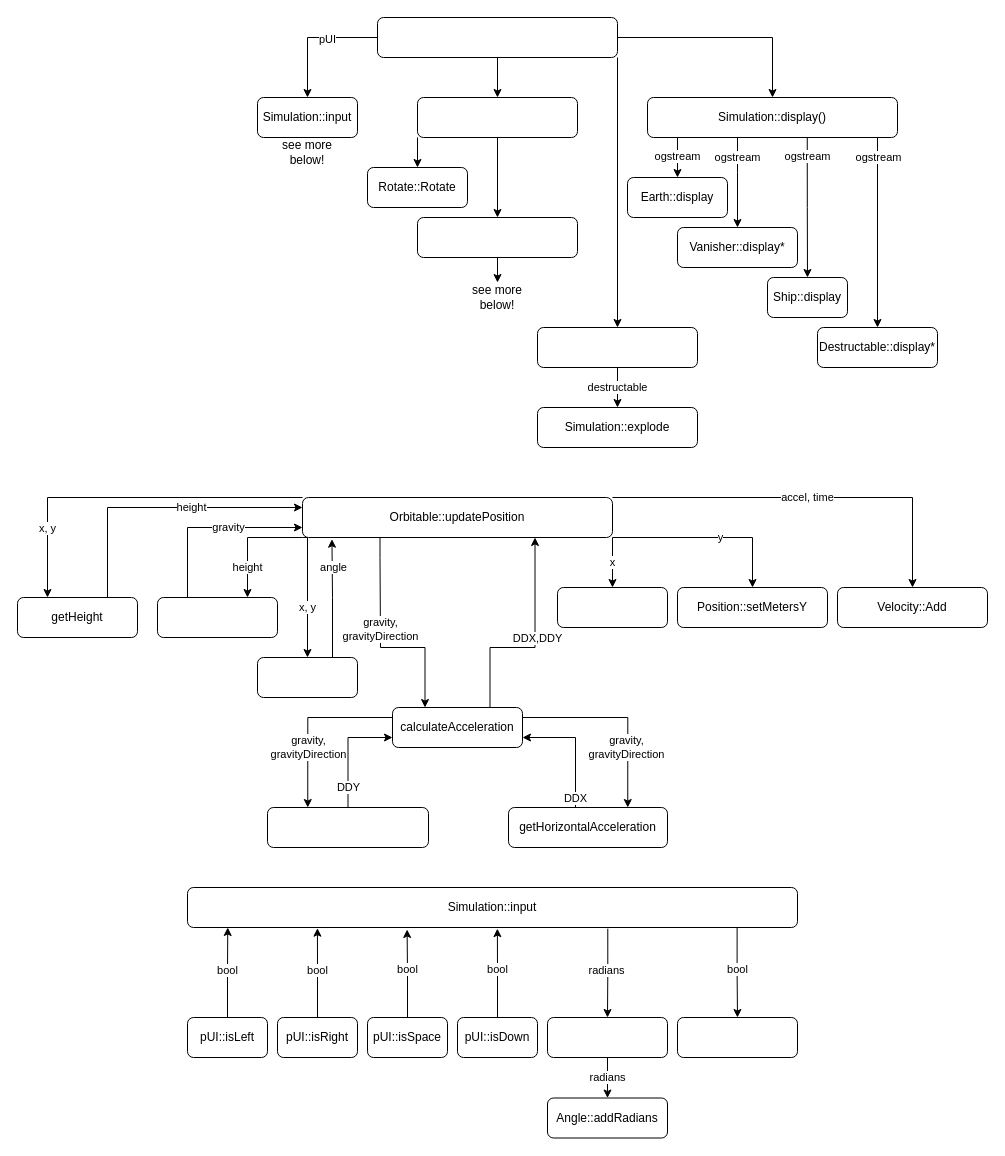
The diagram is 1005 pixels wide and 1156 high, and some of its shapes have lost their labels. The centre of each missing label's shape, as x and y in pixels:
callback: the point at 497,37
getDirectionGravity: the point at 307,677
getGravity: the point at 217,617
getVerticalAcceleration: the point at 347,827
Orbitable::updatePosition*: the point at 497,237
Position::setMetersX: the point at 612,607
Ship::increaseAngle: the point at 607,1037
Ship::setAccelerating: the point at 737,1037
Simulation::checkCollisions: the point at 617,347
Simulation::gamePlay: the point at 497,117
